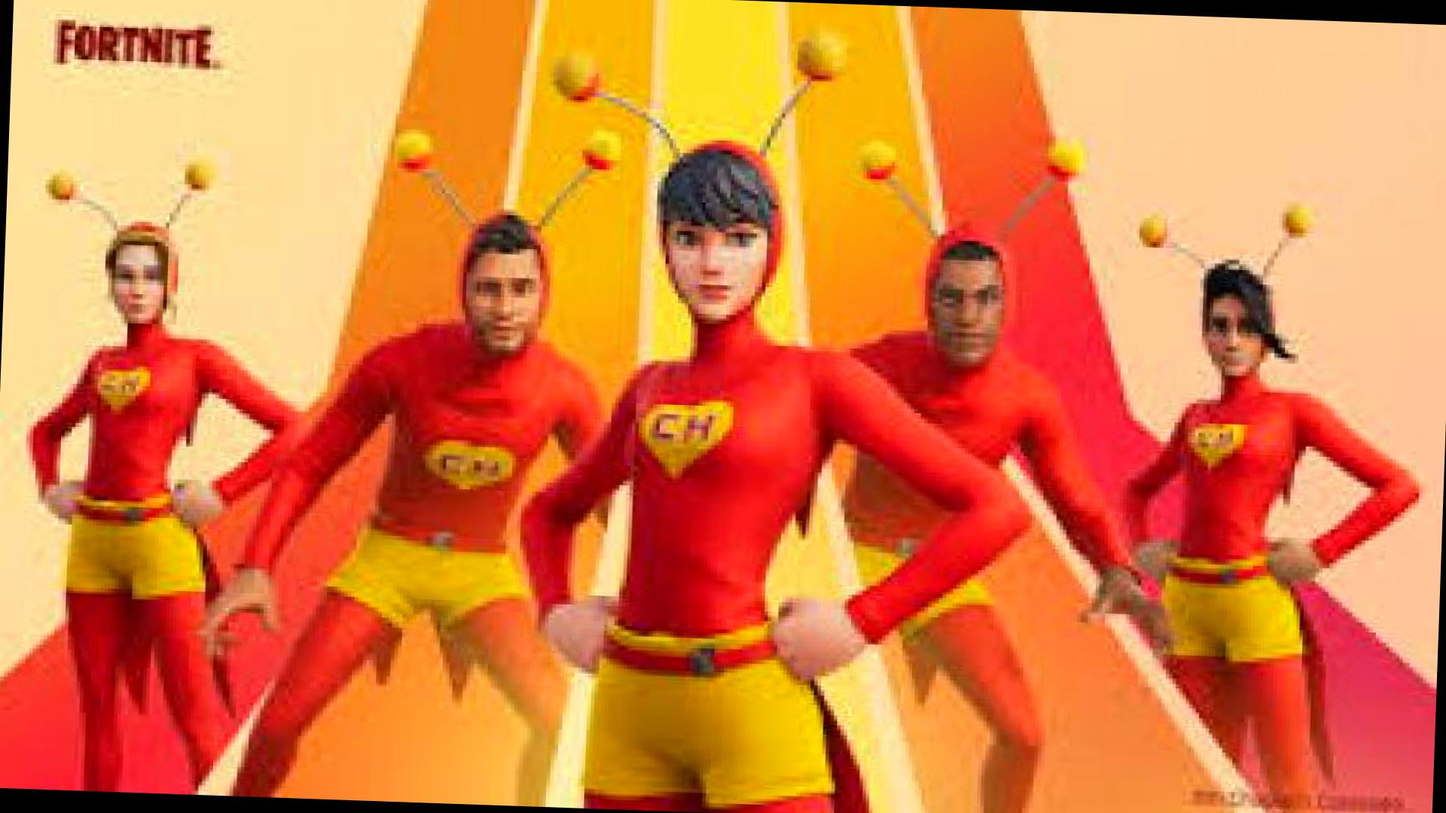player: (601, 175, 840, 769), (37, 211, 241, 780), (376, 231, 576, 788), (1117, 290, 1336, 787), (878, 255, 1052, 769)
